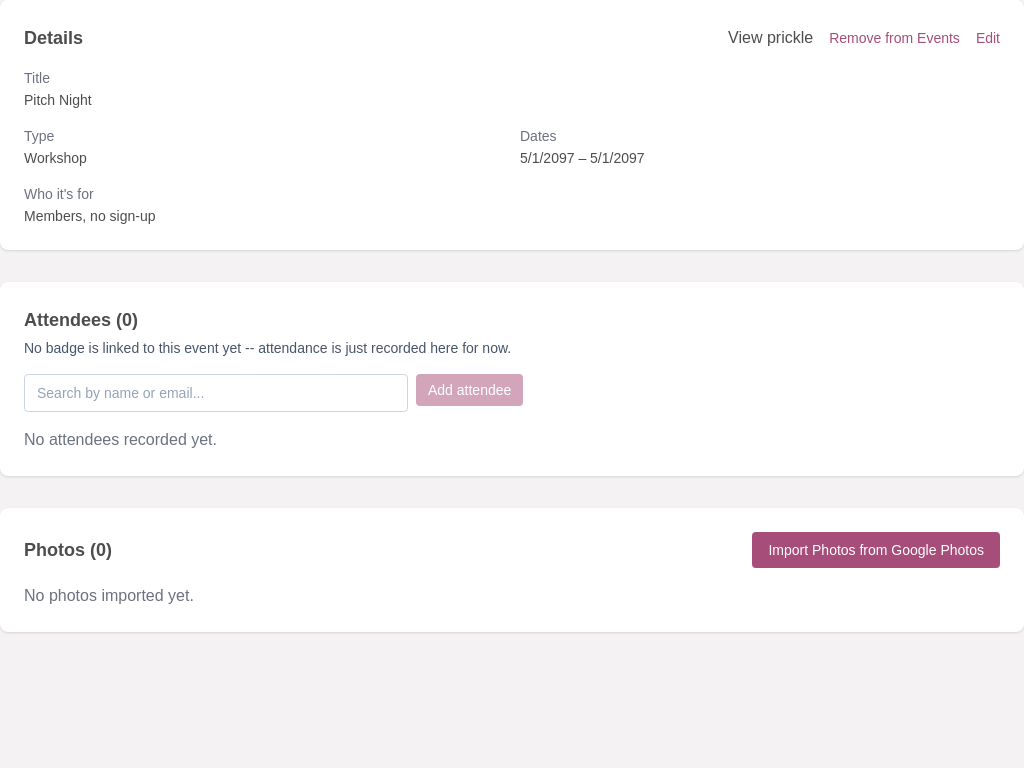
Test: hiding an event from members › shows why it couldn't change
Click the button "Remove from Events": x=895, y=38 x1=829 y1=26 x2=960 y2=50
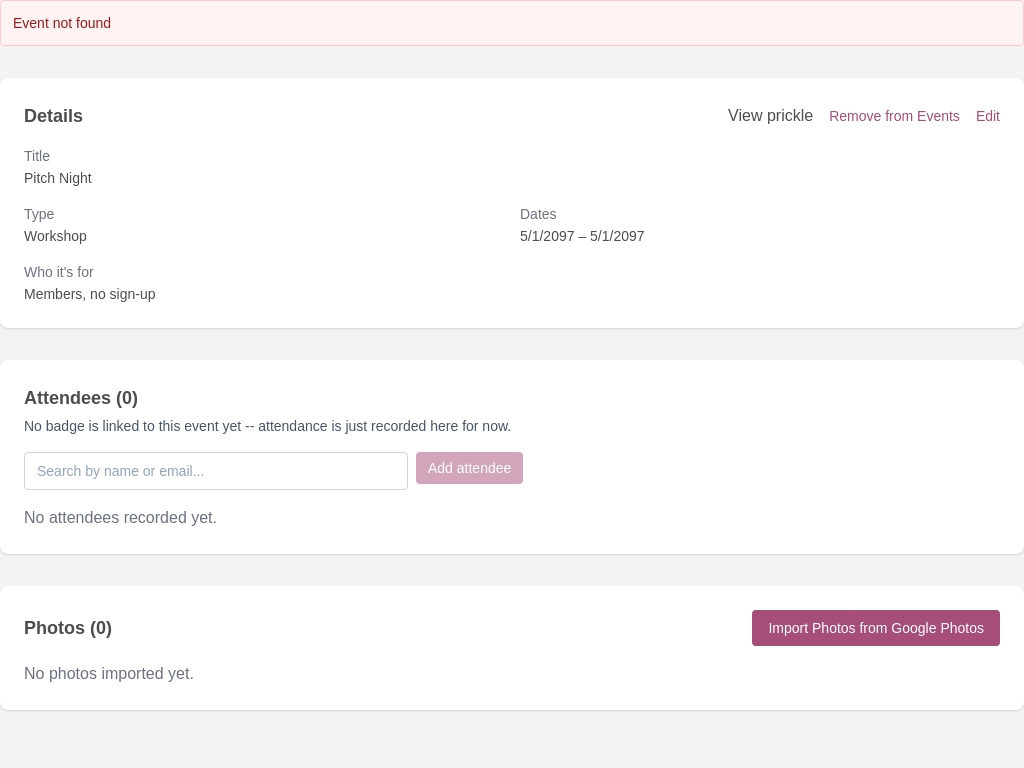
Expected: the text "Event not found" is shown, x1=0 y1=0 x2=1023 y2=46
